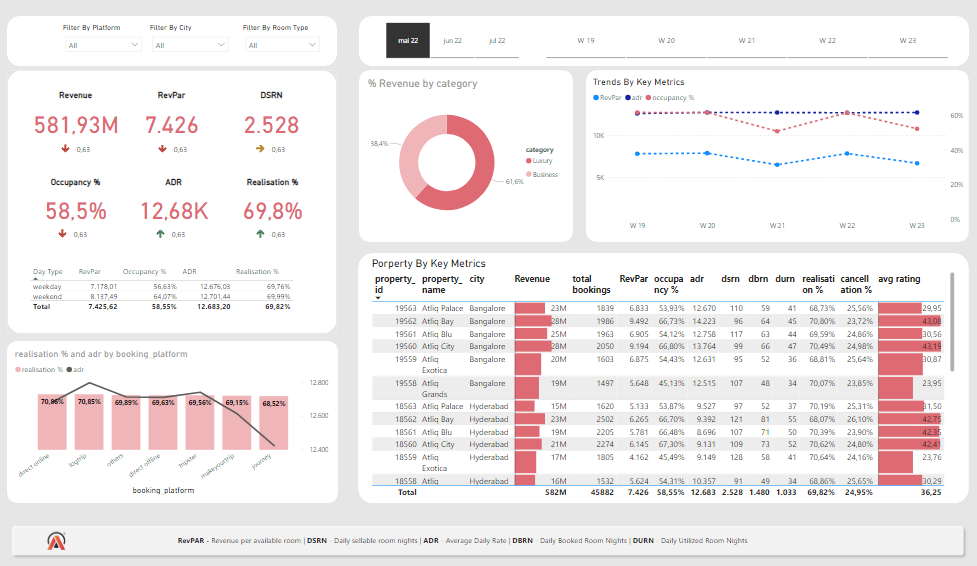

The dashboard page shown, as its layout file describes it:
{"tool":"powerbi","page":{"name":"Dashboard","canvas":[1800,1100],"ordinal":0},"visuals":[{"type":"shape","box":[32.1,673.2,601.8,294.6],"z":0},{"type":"shape","box":[1084.9,179.8,696.4,312.7],"z":1000},{"type":"shape","box":[671.4,512.5,1110.7,455.4],"z":2000},{"type":"shape","box":[672.2,179.8,389.1,312.7],"z":3000},{"type":"shape","box":[32.1,180.4,600,480.4],"z":4000},{"type":"shape","box":[672.2,81.6,1109.1,90.9],"z":5000},{"type":"shape","box":[32.1,82.1,600,91.1],"z":6000},{"type":"tableEx","title":"Porperty By Key Metrics","fields":{"Values":["dim_hotels.property_id","dim_hotels.property_name","dim_hotels.city","key_measures.Revenue","key_measures.total bookings","key_measures.RevPar","key_measures.occupancy %","key_measures.adr","key_measures.dsrn","key_measures.dbrn","key_measures.durn","key_measures.realisation %"]},"box":[691.1,519.6,1069.6,442.9],"z":7000},{"type":"slicer","title":"Filter By City","fields":{"Values":["dim_hotels.city"]},"box":[286.7,94.3,158.2,65.5],"z":8000},{"type":"slicer","title":"Filter By Room Type","fields":{"Values":["dim_rooms.room_class"]},"box":[455.8,94.3,154.5,65.5],"z":9000},{"type":"slicer","fields":{"Values":["dim_date.mmm yy"]},"box":[695.8,87,290.9,78.2],"z":10000},{"type":"slicer","fields":{"Values":["dim_date.week no"]},"box":[986.7,87,780,78.2],"z":11000},{"type":"tableEx","fields":{"Values":["key_measures.Revenue WoW change %"]},"box":[119.3,283,75,56.8],"z":12000},{"type":"donutChart","title":"% Revenue by category","fields":{"Category":["dim_hotels.category"],"Y":["key_measures.Revenue"]},"box":[683.1,192.5,365.5,289.1],"z":13000},{"type":"card","title":"Revenue","fields":{"Values":["key_measures.Revenue"]},"box":[59.3,216,195,98.8],"z":14000},{"type":"tableEx","fields":{"Values":["key_measures.Revenue WoW change %"]},"box":[475,284.1,76.1,54.5],"z":15000},{"type":"tableEx","fields":{"Values":["key_measures.Revenue WoW change %"]},"box":[295.5,284.1,78.4,54.5],"z":16000},{"type":"card","title":"RevPar","fields":{"Values":["key_measures.RevPar"]},"box":[234.3,216.1,194.5,100],"z":17000},{"type":"card","title":"DSRN","fields":{"Values":["key_measures.dsrn"]},"box":[416.1,216.1,194.5,100],"z":18000},{"type":"tableEx","fields":{"Values":["key_measures.Revenue WoW change %"]},"box":[475,437.5,79.5,55.7],"z":19000},{"type":"tableEx","fields":{"Values":["key_measures.Revenue WoW change %"]},"box":[292,437.5,78.4,55.7],"z":20000},{"type":"tableEx","fields":{"Values":["key_measures.Revenue WoW change %"]},"box":[113.6,438.6,85.2,54.5],"z":21000},{"type":"card","title":"Occupancy %","fields":{"Values":["key_measures.occupancy %"]},"box":[59.7,374.3,194.5,94.5],"z":22000},{"type":"card","title":"ADR","fields":{"Values":["key_measures.adr"]},"box":[237.9,374.3,194.5,96.4],"z":23000},{"type":"card","title":"Realisation %","fields":{"Values":["key_measures.realisation %"]},"box":[417.9,374.3,194.5,96.4],"z":24000},{"type":"lineChart","title":"Trends By Key Metrics","fields":{"Category":["dim_date.mmm yy.Variation.Date Hierarchy.Month","dim_date.week no"],"Y":["key_measures.RevPar","key_measures.adr"],"Y2":["key_measures.occupancy %"]},"box":[1092.2,190.7,683.6,290.9],"z":25000},{"type":"lineStackedColumnComboChart","fields":{"Category":["fact_bookings.booking_platform"],"Y":["key_measures.realisation %"],"Y2":["key_measures.adr"]},"box":[41.1,685.7,580.4,271.4],"z":26000},{"type":"tableEx","fields":{"Values":["dim_date.day_type","key_measures.RevPar","key_measures.occupancy %","key_measures.adr","key_measures.realisation %"]},"box":[69.6,532.1,525,114.3],"z":27000},{"type":"shape","box":[32.1,1000,1748.2,71.4],"z":28000},{"type":"slicer","title":"Filter By Platform","fields":{"Values":["dim_hotels.city"]},"box":[128.6,94.6,158.9,66.1],"z":29000},{"type":"textbox","box":[333.9,1021.4,1062.5,26.8],"z":30000},{"type":"image","box":[82.1,1014.3,82.1,42.9],"z":31000}]}

Visuals, with their boxes on the page's 1800x1100 design canvas (x1, y1, x2, y2). These are canvas units, not pixel positions in the 977x566 screenshot, which may show the page scaled, cropped or inside an application window:
shape: {"left": 32, "top": 673, "right": 634, "bottom": 968}
shape: {"left": 1085, "top": 180, "right": 1781, "bottom": 492}
shape: {"left": 671, "top": 512, "right": 1782, "bottom": 968}
shape: {"left": 672, "top": 180, "right": 1061, "bottom": 492}
shape: {"left": 32, "top": 180, "right": 632, "bottom": 661}
shape: {"left": 672, "top": 82, "right": 1781, "bottom": 172}
shape: {"left": 32, "top": 82, "right": 632, "bottom": 173}
"Porperty By Key Metrics" tableEx: {"left": 691, "top": 520, "right": 1761, "bottom": 962}
"Filter By City" slicer: {"left": 287, "top": 94, "right": 445, "bottom": 160}
"Filter By Room Type" slicer: {"left": 456, "top": 94, "right": 610, "bottom": 160}
slicer - dim_date.mmm yy: {"left": 696, "top": 87, "right": 987, "bottom": 165}
slicer - dim_date.week no: {"left": 987, "top": 87, "right": 1767, "bottom": 165}
tableEx - key_measures.Revenue WoW change %: {"left": 119, "top": 283, "right": 194, "bottom": 340}
"% Revenue by category" donutChart: {"left": 683, "top": 192, "right": 1049, "bottom": 482}
"Revenue" card: {"left": 59, "top": 216, "right": 254, "bottom": 315}
tableEx - key_measures.Revenue WoW change %: {"left": 475, "top": 284, "right": 551, "bottom": 339}
tableEx - key_measures.Revenue WoW change %: {"left": 296, "top": 284, "right": 374, "bottom": 339}
"RevPar" card: {"left": 234, "top": 216, "right": 429, "bottom": 316}
"DSRN" card: {"left": 416, "top": 216, "right": 611, "bottom": 316}
tableEx - key_measures.Revenue WoW change %: {"left": 475, "top": 438, "right": 554, "bottom": 493}
tableEx - key_measures.Revenue WoW change %: {"left": 292, "top": 438, "right": 370, "bottom": 493}
tableEx - key_measures.Revenue WoW change %: {"left": 114, "top": 439, "right": 199, "bottom": 493}
"Occupancy %" card: {"left": 60, "top": 374, "right": 254, "bottom": 469}
"ADR" card: {"left": 238, "top": 374, "right": 432, "bottom": 471}
"Realisation %" card: {"left": 418, "top": 374, "right": 612, "bottom": 471}
"Trends By Key Metrics" lineChart: {"left": 1092, "top": 191, "right": 1776, "bottom": 482}
lineStackedColumnComboChart - fact_bookings.booking_platform x key_measures.realisation %: {"left": 41, "top": 686, "right": 622, "bottom": 957}
tableEx - dim_date.day_type x key_measures.RevPar: {"left": 70, "top": 532, "right": 595, "bottom": 646}
shape: {"left": 32, "top": 1000, "right": 1780, "bottom": 1071}
"Filter By Platform" slicer: {"left": 129, "top": 95, "right": 288, "bottom": 161}
textbox: {"left": 334, "top": 1021, "right": 1396, "bottom": 1048}
image: {"left": 82, "top": 1014, "right": 164, "bottom": 1057}
